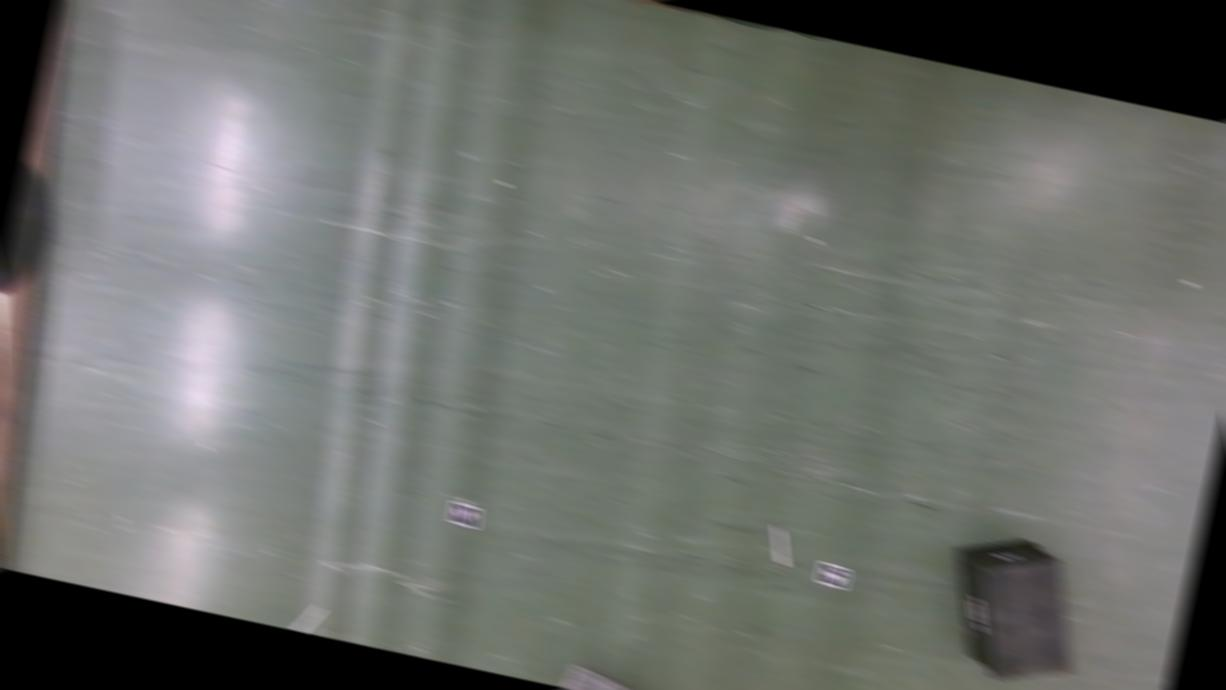probes: (293, 600, 325, 636), (767, 524, 794, 564)
rako: (931, 521, 1097, 690)
